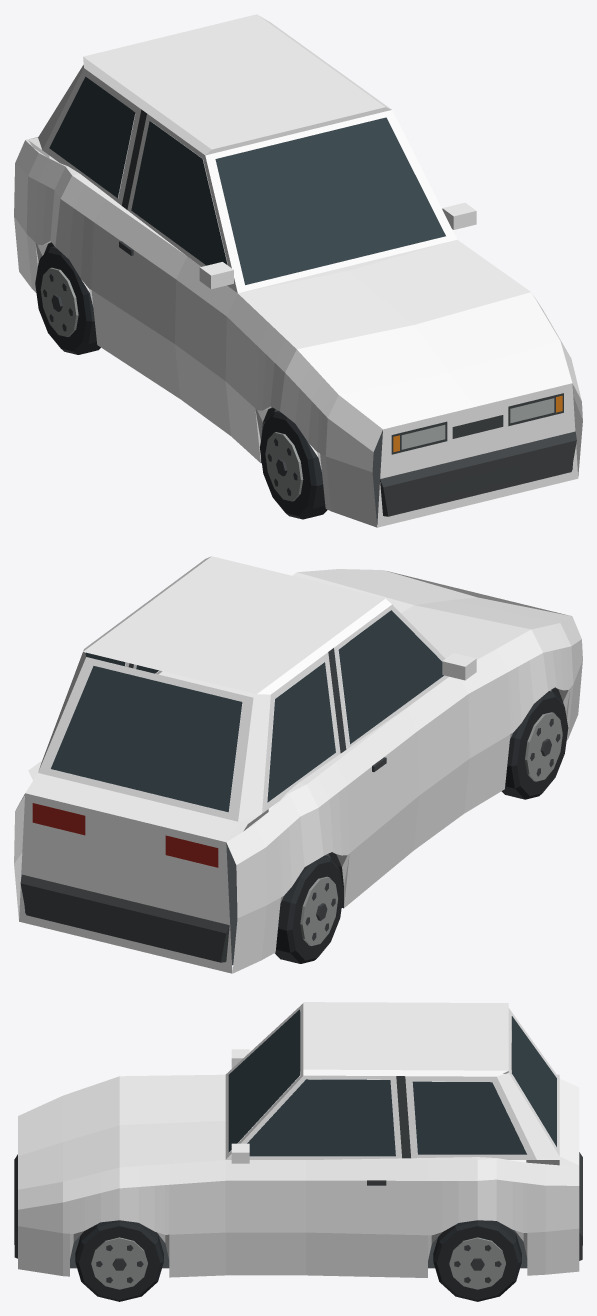
The model's file is hozuki_samidare_s_ii.glb.
The picture shows the model from 3 angles, top to bottom: view 1: azimuth 30°, elevation 25°; view 2: azimuth 150°, elevation 25°; view 3: azimuth 270°, elevation 25°; orthographic projection. The views are drawn at different scales.
Parts seen in each view (by area): view 1: hozuki_samidare_s_ii; view 2: hozuki_samidare_s_ii; view 3: hozuki_samidare_s_ii.
Boxes of the visible parts, bbox=[...] form: hozuki_samidare_s_ii: bbox=[14, 14, 582, 527]; hozuki_samidare_s_ii: bbox=[14, 556, 582, 973]; hozuki_samidare_s_ii: bbox=[14, 1002, 582, 1301].
Size of the model in its own units: 1.64 by 1.59 by 3.78.
8 materials, 1 textured.
